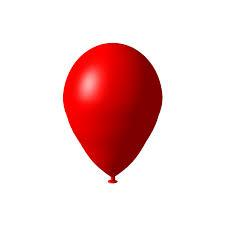red: (63, 42, 162, 183)
